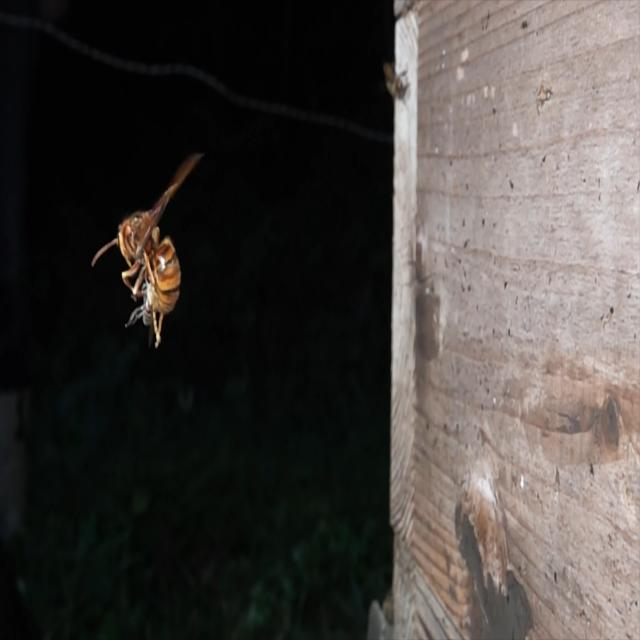Bees: (126, 270, 153, 332)
Hornets: (93, 152, 203, 343)
